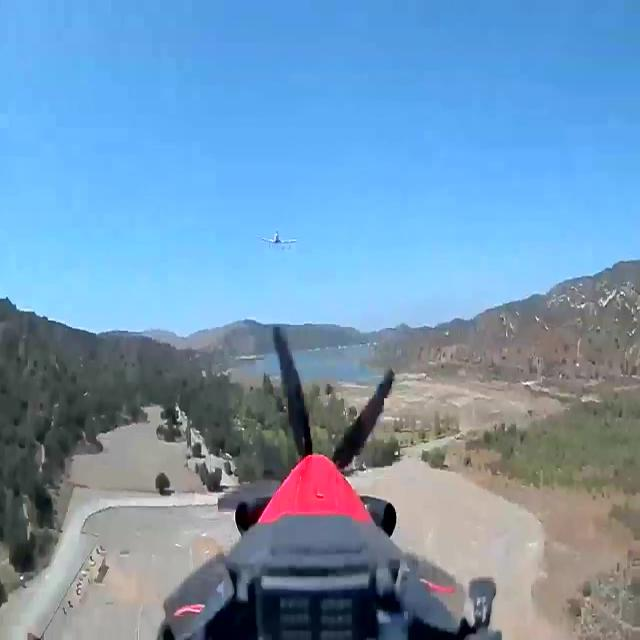iha: (256, 230, 297, 253)
